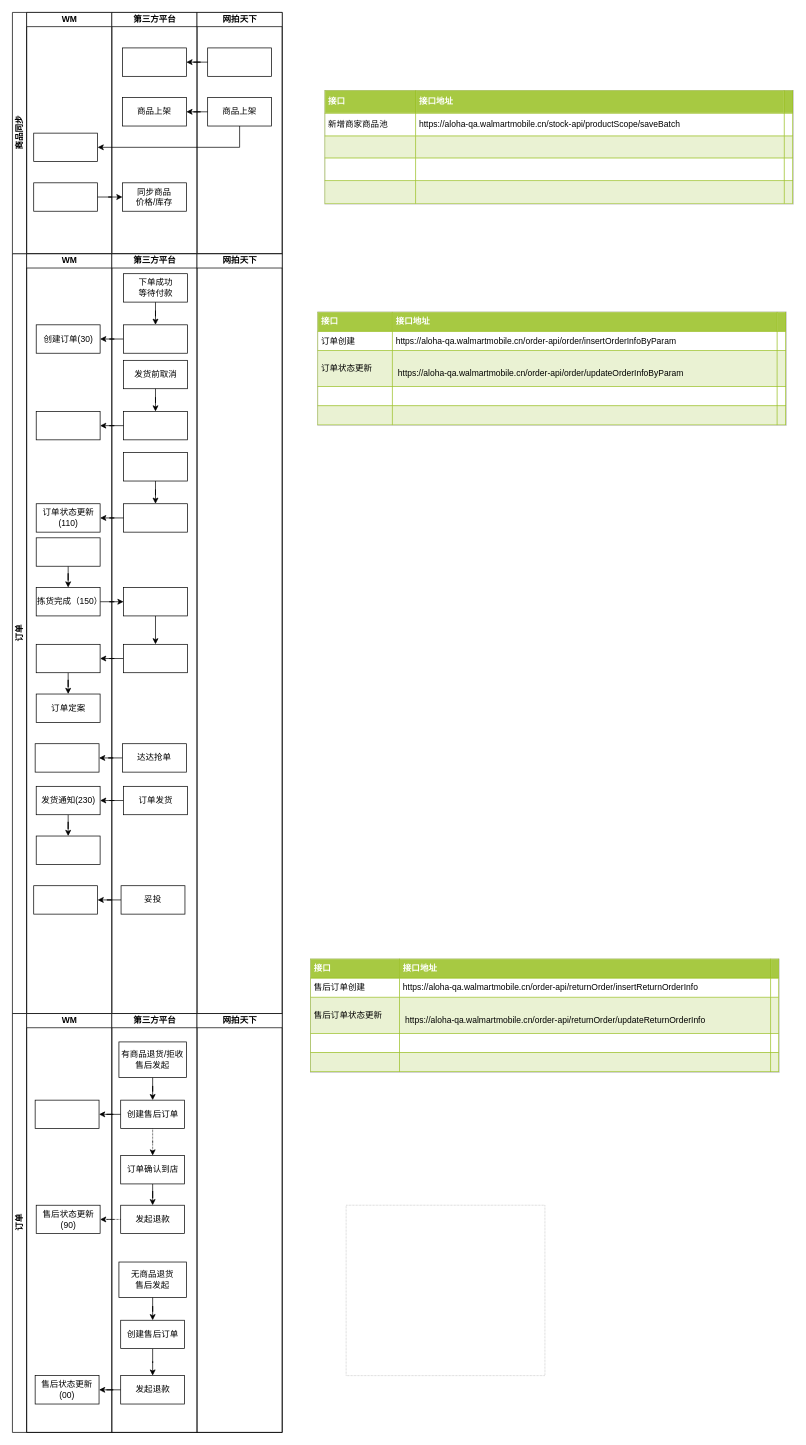
Image size: 806x1445. Some labels were removed from this diagram. Each missing label, with the box of its shape:
创建售后订单(50): (34, 1099, 99, 1129)
创建商品: (207, 47, 272, 76)
创建订单: (123, 324, 187, 353)
取消订单: (123, 411, 187, 440)
同步商品信息: (122, 47, 186, 76)
开始拣货: (36, 537, 100, 566)
支付成功: (123, 452, 187, 481)
新增商家商品池: (33, 132, 98, 162)
更新拣货数据: (123, 587, 187, 616)
更新订单信息(210): (36, 644, 100, 673)
更新订单状态: (123, 503, 187, 532)
状态更新(220): (34, 743, 99, 772)
状态码 状态 30 订单创建 110 待拣货 150 拣货完成/定案 210 待发货 220 已接单 230 已发货 410 发货前取消 430 已完成: (345, 1205, 545, 1376)
获取商品 价格/库存: (33, 182, 98, 211)
触发pos过机: (36, 835, 100, 864)
订单完成(430): (33, 885, 98, 914)
订单状态更新(410): (36, 411, 100, 440)
重算订单金额: (123, 644, 187, 673)
